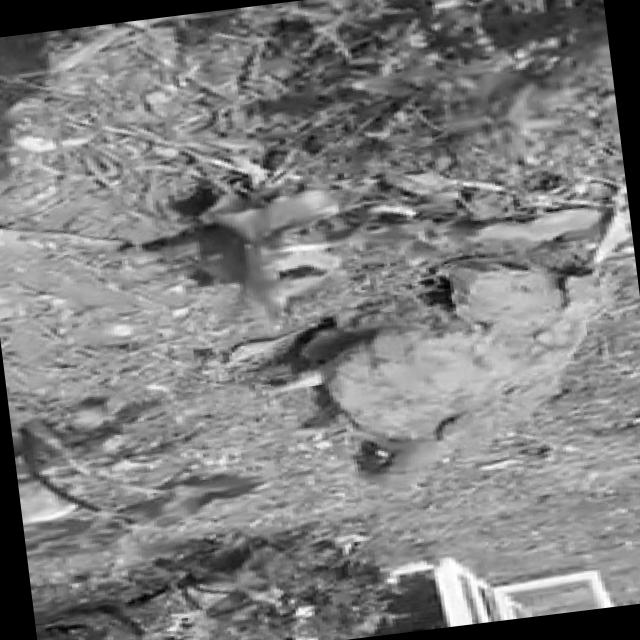leg stretching: (256, 252, 630, 544)
